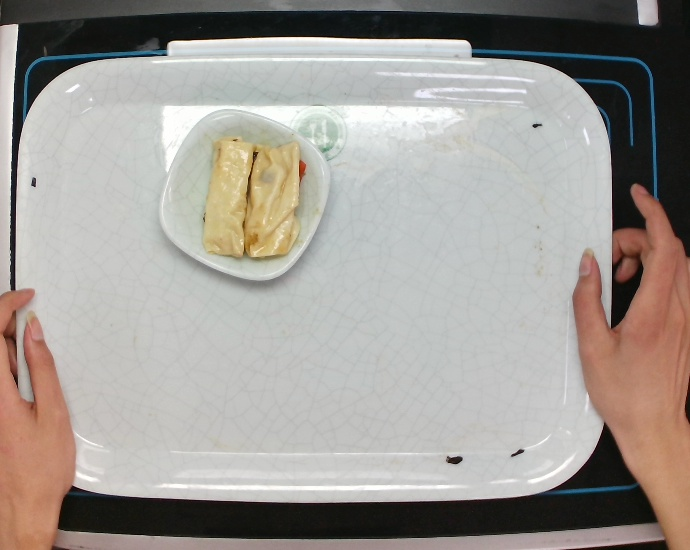JYsf-Si_Fang_Die: (159, 100, 335, 281)
